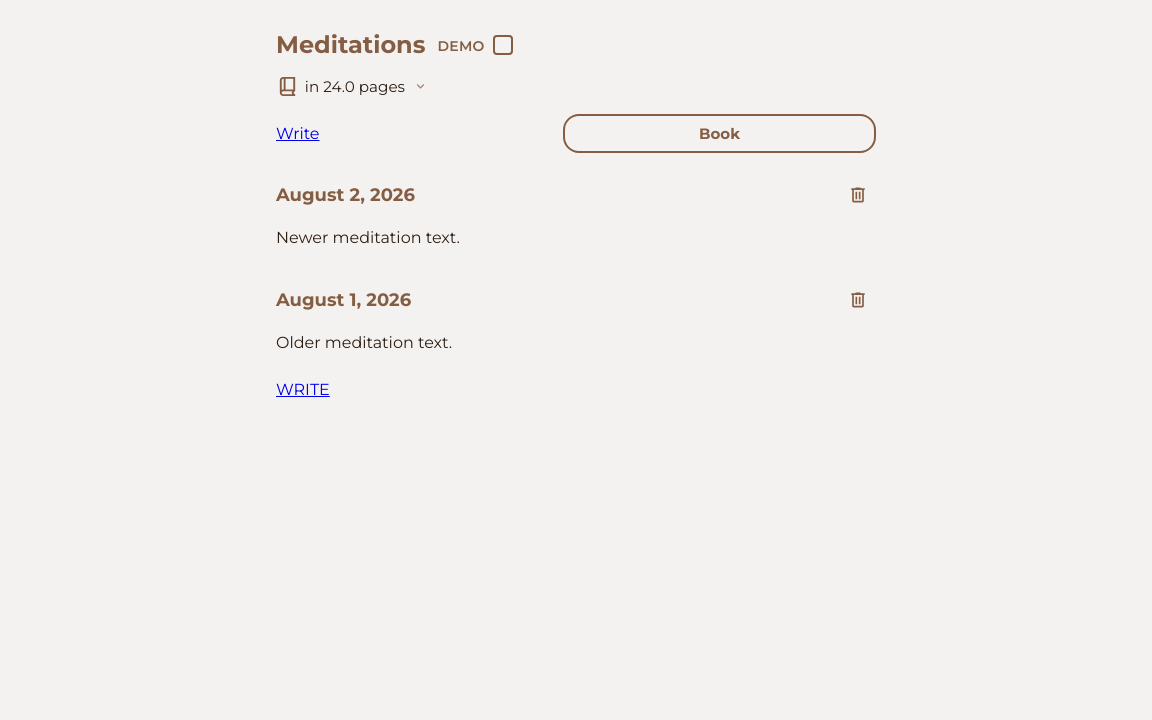
Test: JournalMeditations remove from meditations › removes the meditations topic and keeps other topics via PATCH
Check: the text "Newer meditation text." is shown, box [276,228,460,247]
Click the button named "Remove from meditations" in the row of "August 2, 2026".
click(858, 195)  # box [840,177,876,213]
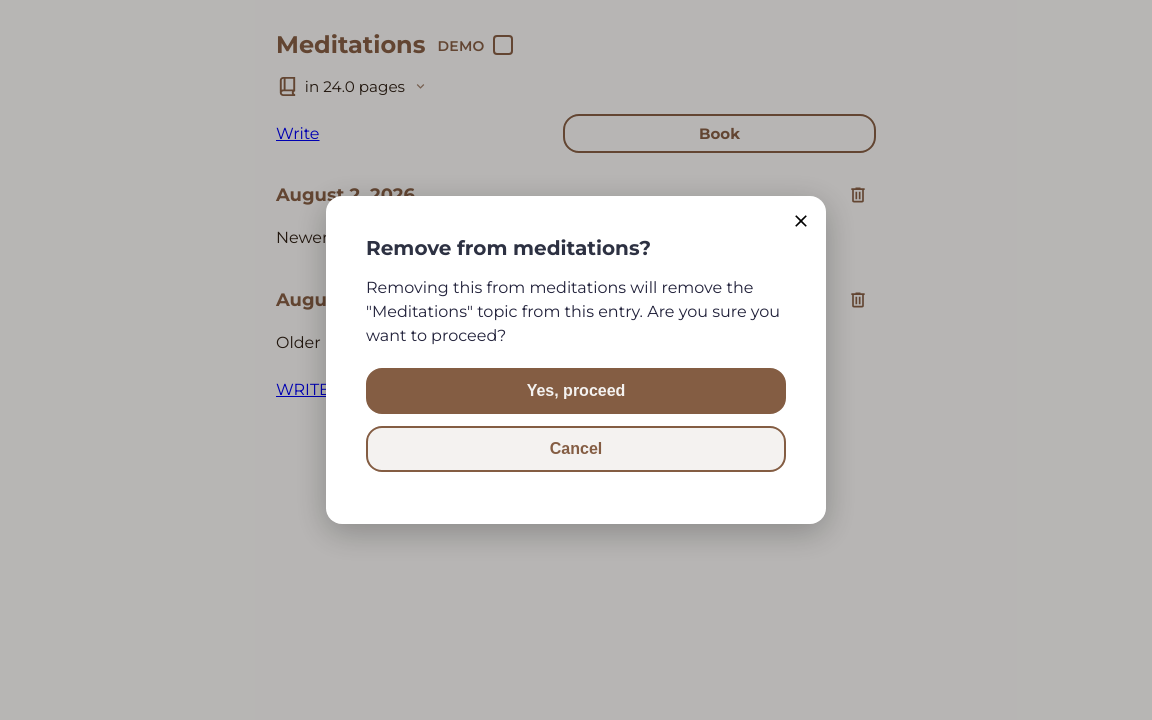
Click the button "Yes, proceed".
click(576, 391)  # box [366,368,786,414]
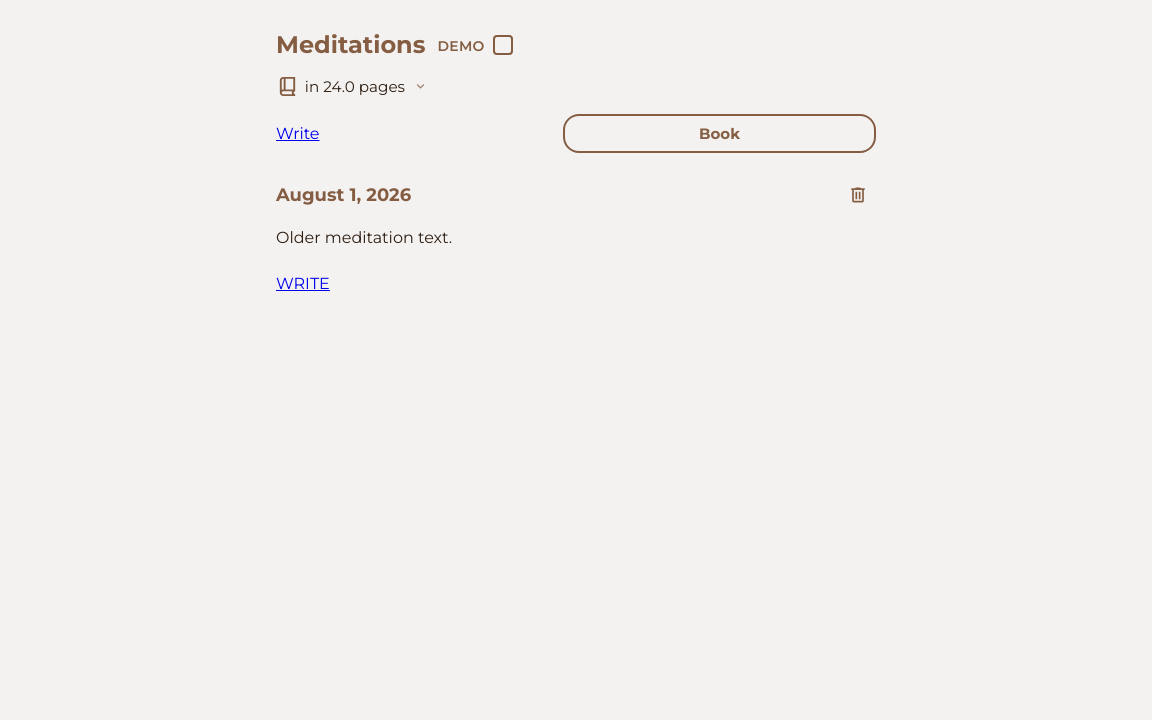
Check: the text "Older meditation text." is shown, box [276,228,452,247]
Check: the text "Newer meditation text." is gone
